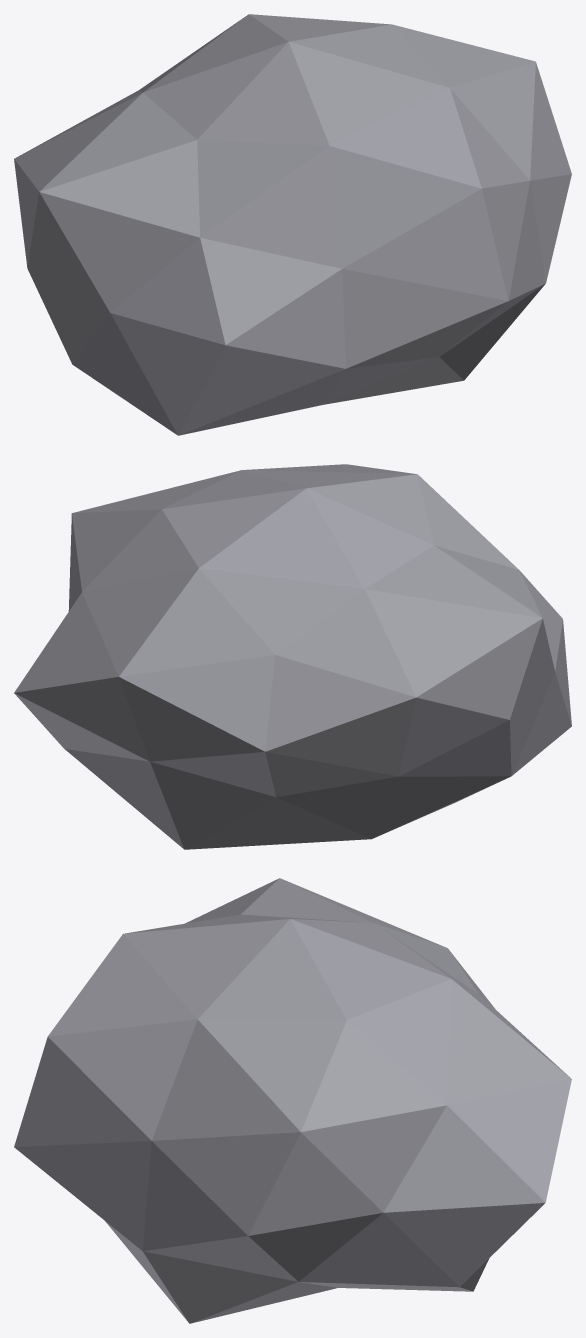
The model's file is deco_pebble_gray.obj.
3 views of the same model, one above another, from view 1: azimuth 30°, elevation 25°; view 2: azimuth 150°, elevation 25°; view 3: azimuth 270°, elevation 25° (orthographic). The views are drawn at different scales.
Parts seen in each view (by area): view 1: deco_pebble_gray; view 2: deco_pebble_gray; view 3: deco_pebble_gray.
Part boxes in pixels (x1,y1,x2,y2): deco_pebble_gray: [14, 14, 571, 435]; deco_pebble_gray: [14, 464, 571, 849]; deco_pebble_gray: [14, 878, 571, 1323].
Size of the model in its own units: 0.0487 by 0.0308 by 0.0444.
1 material, 1 textured.
